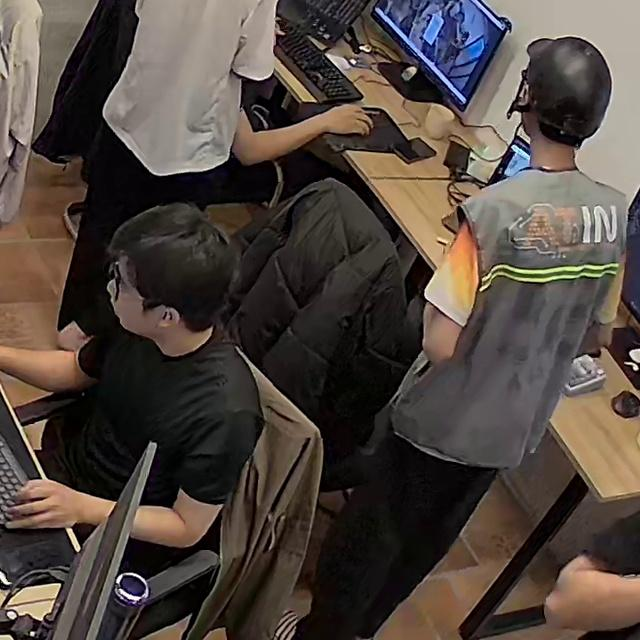helmet: (517, 36, 613, 143)
no_helmet: (107, 204, 241, 329)
none: (59, 320, 267, 511)
vest: (395, 169, 628, 469)
